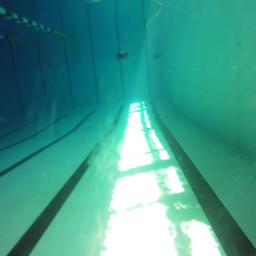Full: (116, 51, 129, 61), (153, 52, 162, 58)
